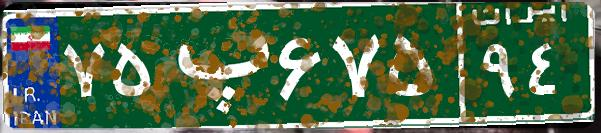4: (525, 38, 570, 115)
5: (385, 28, 445, 110), (110, 28, 158, 105)
6: (273, 28, 330, 110)
7: (330, 28, 385, 110), (57, 26, 110, 107)
9: (475, 38, 525, 113)
پ: (158, 15, 273, 115)
